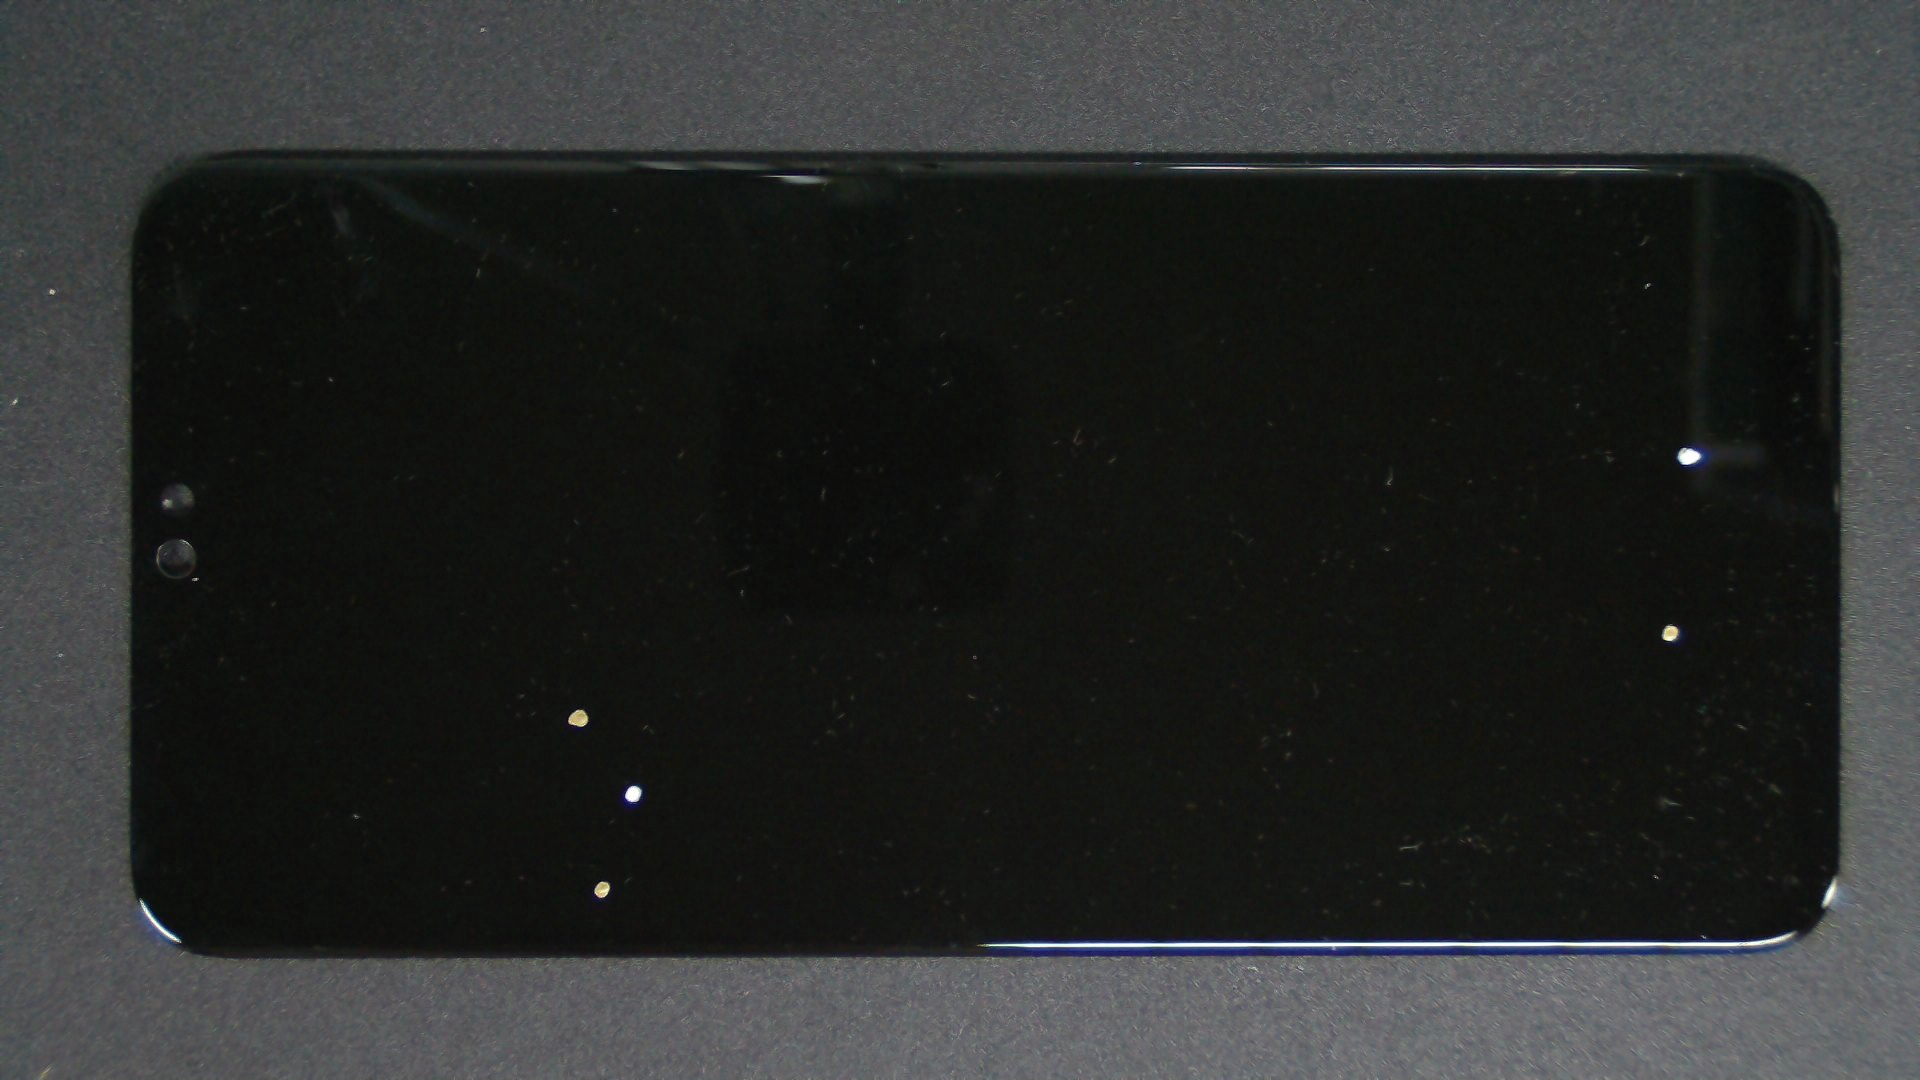oil: (835, 310, 1920, 935), (843, 223, 1920, 670), (316, 390, 943, 1080), (290, 353, 866, 1063), (301, 439, 899, 1080)
